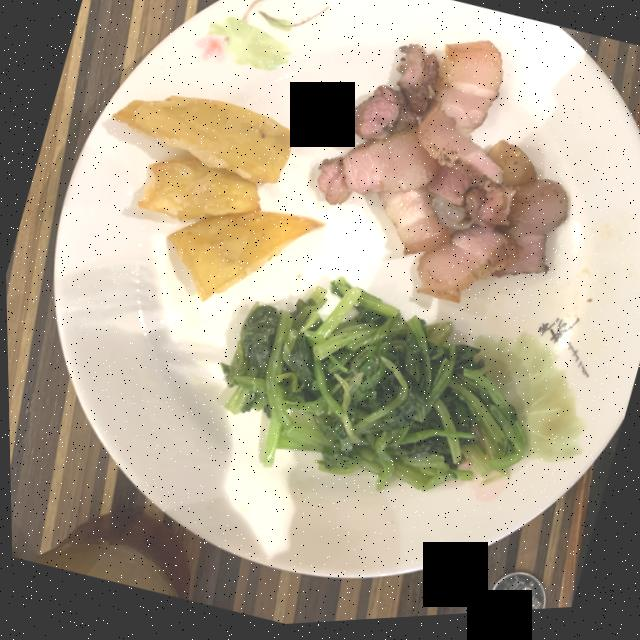coin: (486, 577, 543, 618)
grilled pork: (316, 46, 567, 306)
mustard greens: (219, 282, 524, 495)
